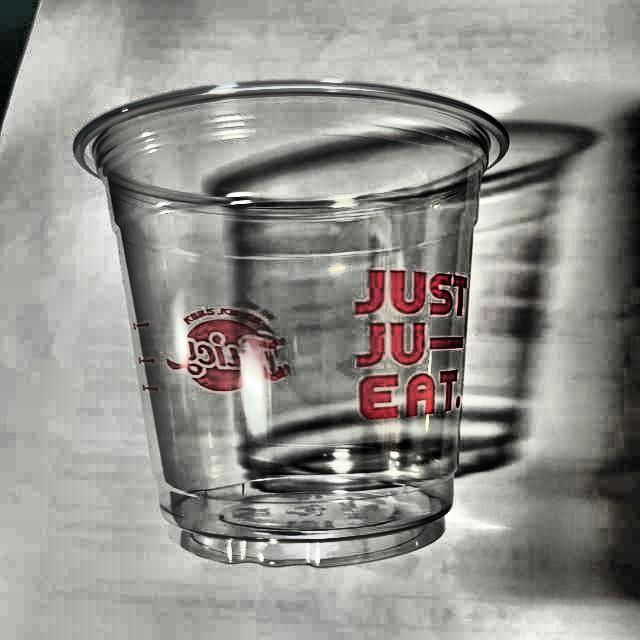plastic cup: (65, 77, 516, 570)
